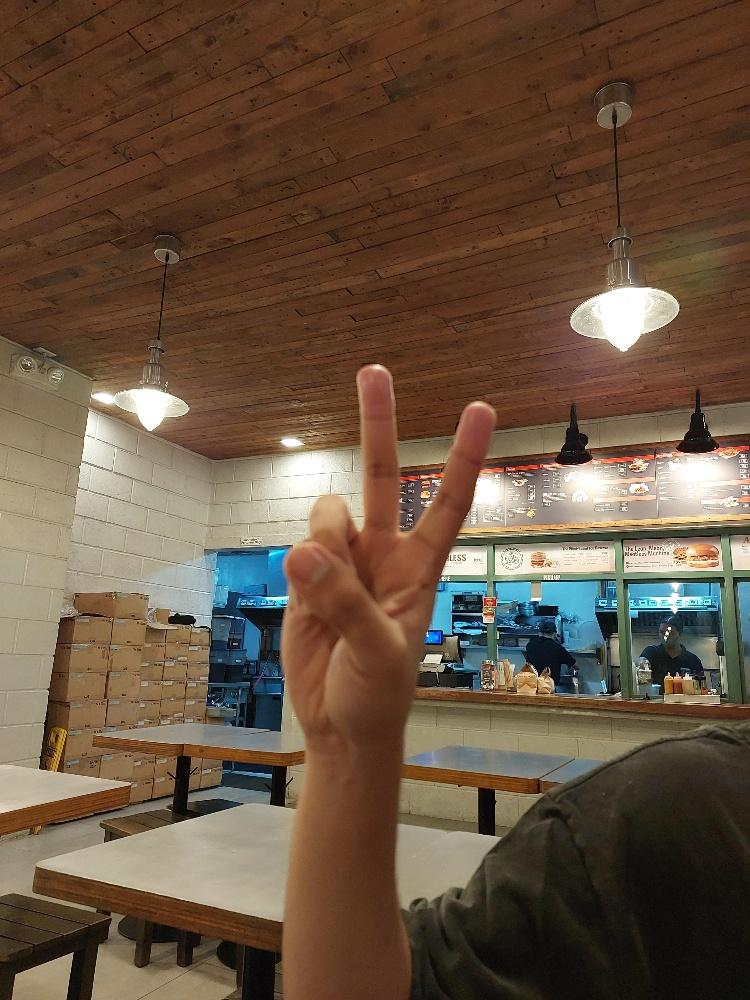v: (276, 361, 498, 743)
